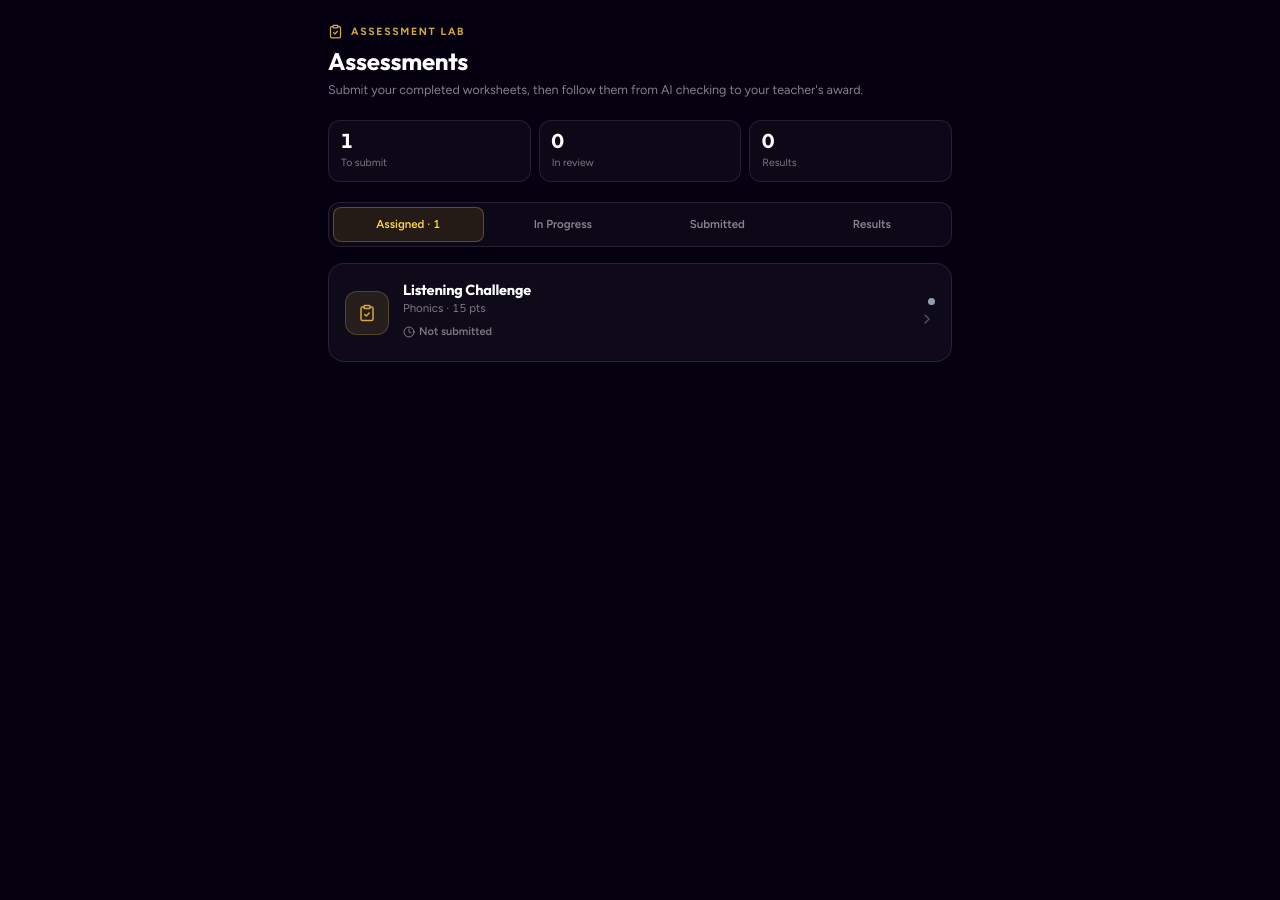
tapping an assessment card opens the introduction sheet
The image size is (1280, 900).
Click the button with test id "assessment-card": (367, 313) x1=328 y1=263 x2=952 y2=362
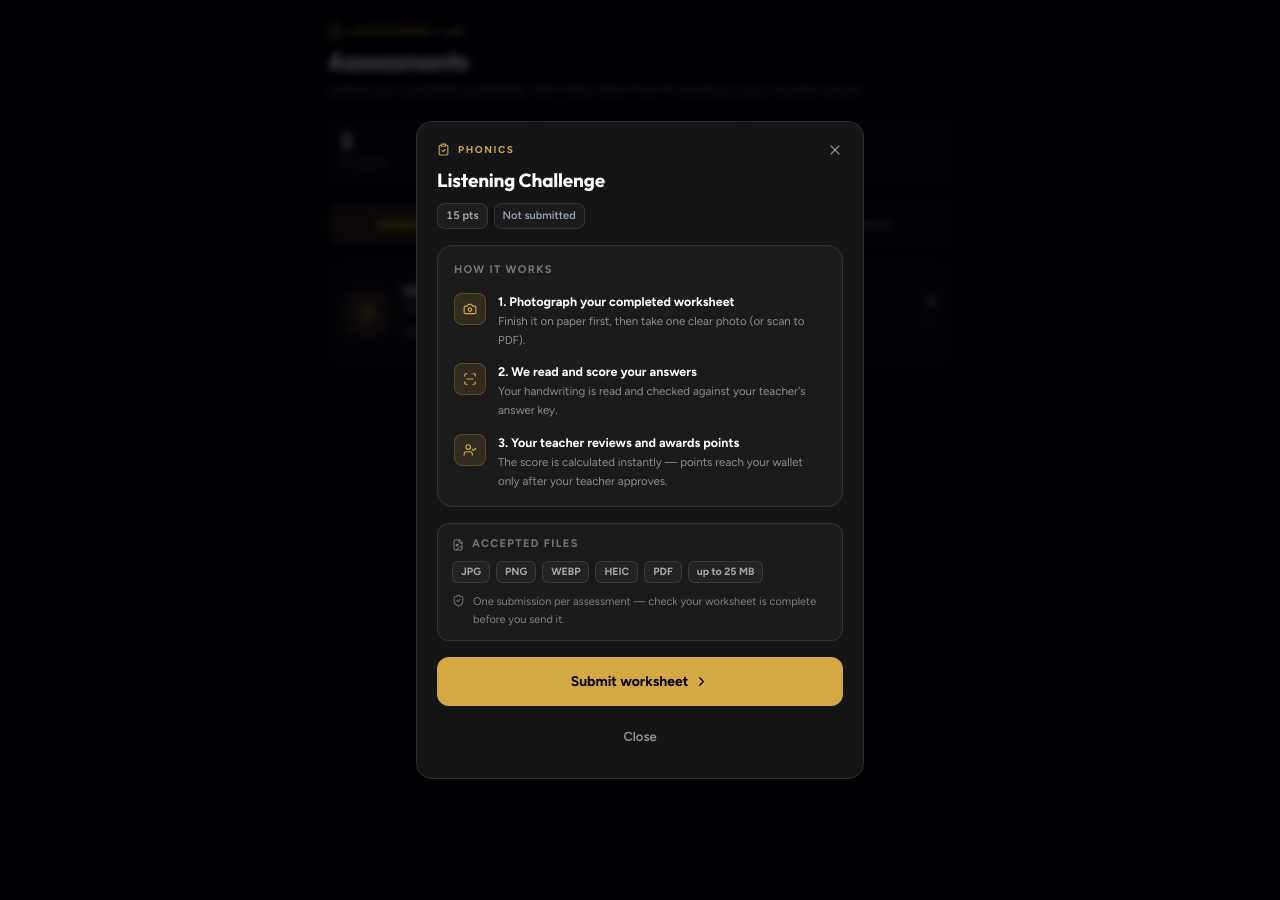
expect the element with test id "assessment-detail-sheet" is shown: met
expect the element with test id "assessment-detail-how-it-works" is shown: met, box x1=437 y1=245 x2=843 y2=507
// The intro's primary CTA hands off to the submission journey.
Click the button with test id "assessment-detail-primary-cta": (640, 682) x1=437 y1=657 x2=843 y2=706
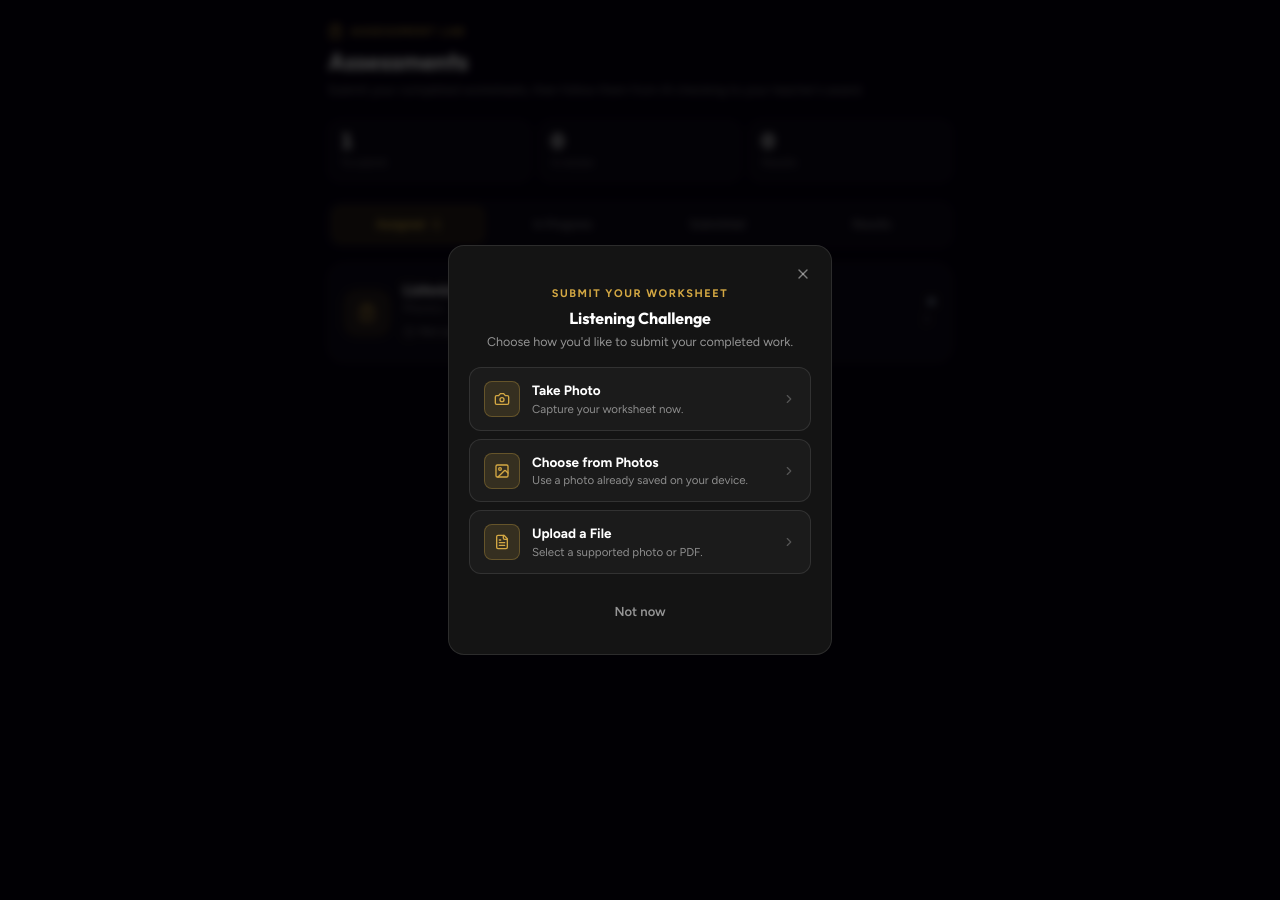
expect the element with test id "assessment-detail-sheet" is gone: met
expect the element with test id "assessment-submit-modal" is shown: met
